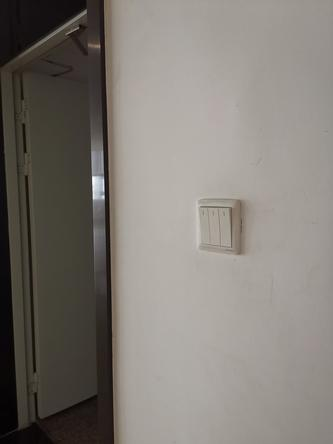switch: (216, 205, 236, 251), (206, 203, 223, 248), (197, 203, 212, 248)
